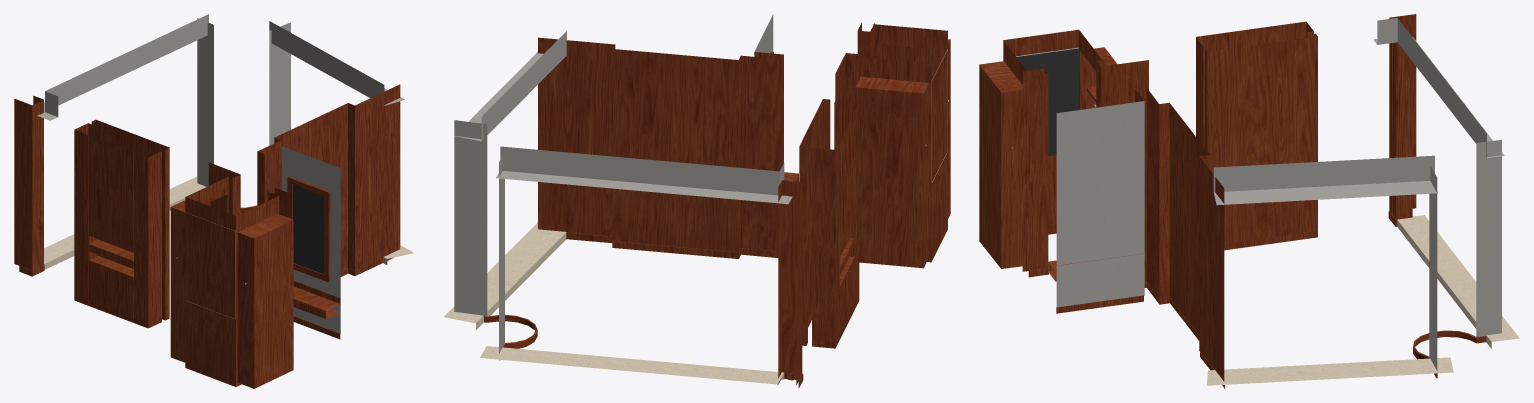
File: Bedroom.fbx
The picture shows the model from 3 angles, left to right: view 1: azimuth 30°, elevation 25°; view 2: azimuth 150°, elevation 25°; view 3: azimuth 270°, elevation 25°; orthographic projection. The views are drawn at different scales.
Visible parts, largest first — view 1: polySurface2; view 2: polySurface2; view 3: polySurface2.
Part boxes in pixels (left/top/right/bottom): polySurface2: left=14, top=14, right=413, bottom=388; polySurface2: left=444, top=14, right=950, bottom=388; polySurface2: left=979, top=14, right=1519, bottom=388.
Size of the model in its own units: 560 by 308 by 718.
